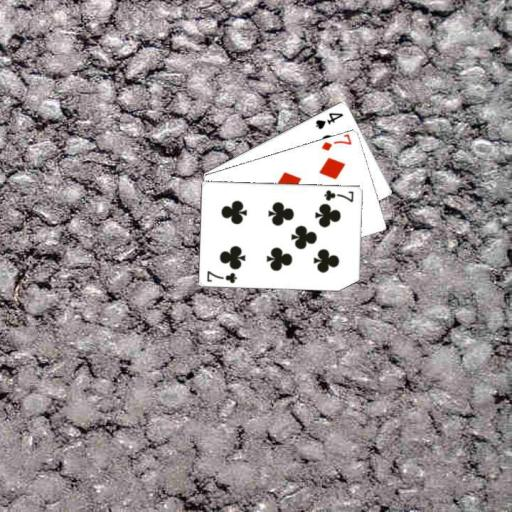4S: (312, 109, 345, 130)
7C: (204, 268, 238, 285), (322, 187, 356, 203)
7D: (318, 132, 353, 152)
